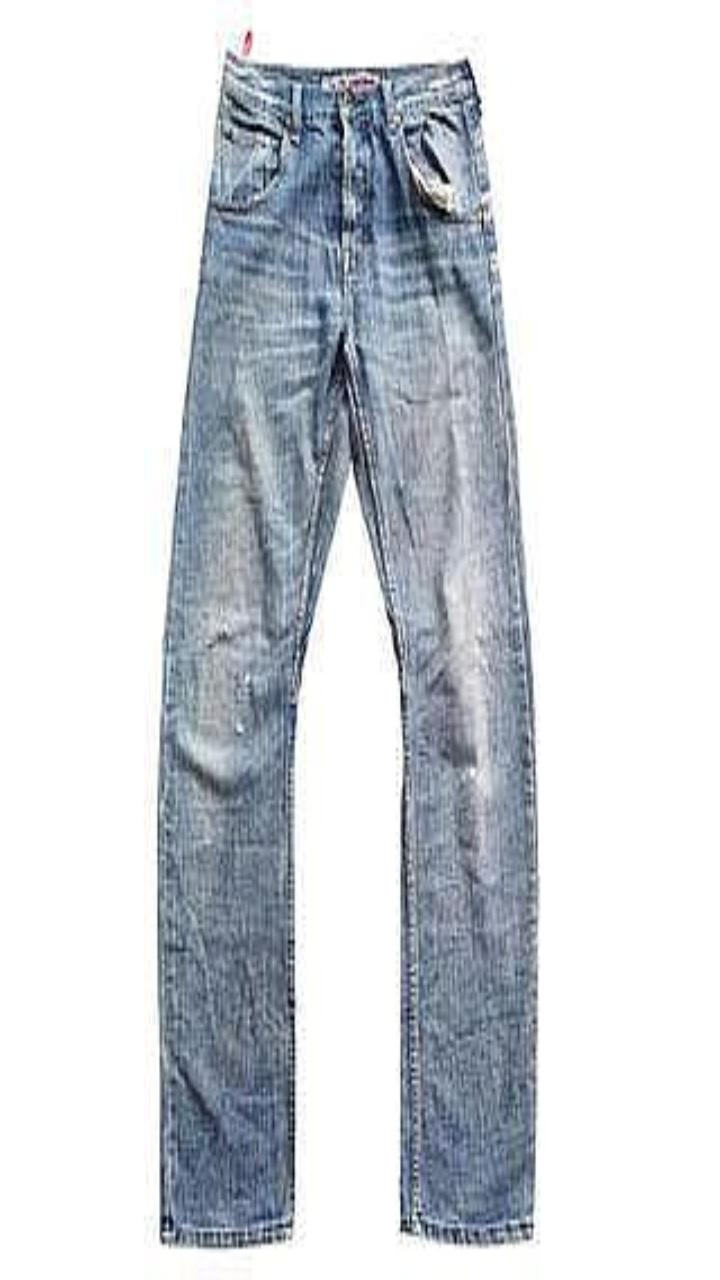Jeans: (158, 51, 537, 1244)
